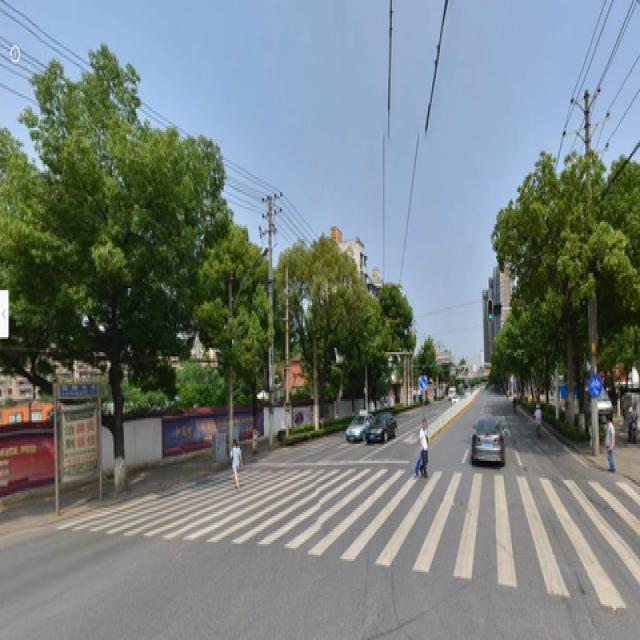cinn: (27, 100, 172, 499), (204, 234, 271, 458)
